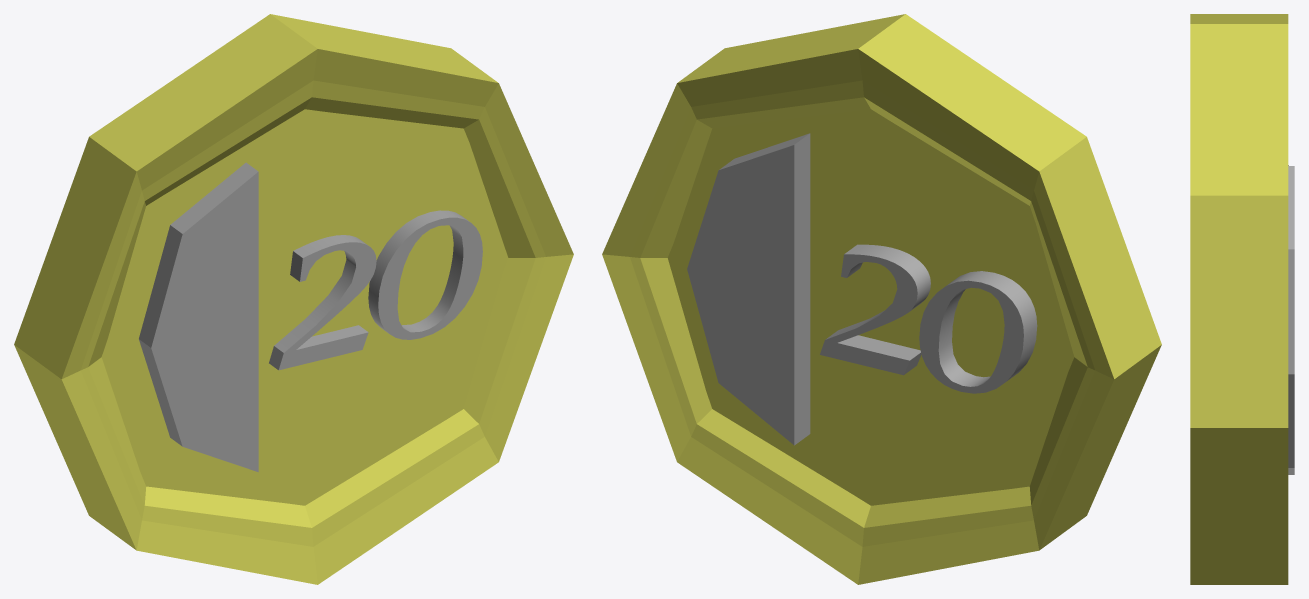
Rendered from 20Cents.fbx.
3 renders of one model, left to right at view 1: azimuth 30°, elevation 25°; view 2: azimuth 150°, elevation 25°; view 3: azimuth 270°, elevation 25°, orthographic. The views are drawn at different scales.
Visible parts, largest first — view 1: pCylinder8, typeMesh5; view 2: pCylinder8, polySurface7; view 3: pCylinder8, polySurface7.
Part boxes in pixels (x1,y1,x2,y2): pCylinder8: (14, 14, 573, 584); typeMesh5: (139, 162, 482, 472); pCylinder8: (602, 14, 1161, 584); polySurface7: (687, 133, 1037, 445); pCylinder8: (1190, 14, 1288, 584); polySurface7: (1288, 165, 1294, 474).
Bounding box in the file's own units: 4 × 4 × 0.685.
